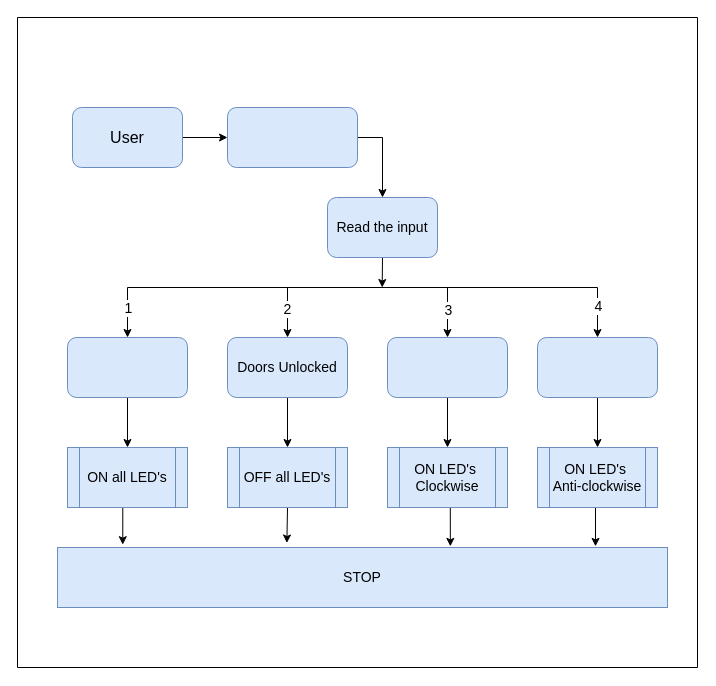
This 716x686 diagram has some shape labels left out. Each missing label, with the centre of its shape:
"Alarm activation" goes at (x=447, y=367).
"Approach Light" goes at (x=597, y=367).
"Doors Locked" goes at (x=127, y=367).
"Input (Button pressed)" goes at (x=292, y=137).
